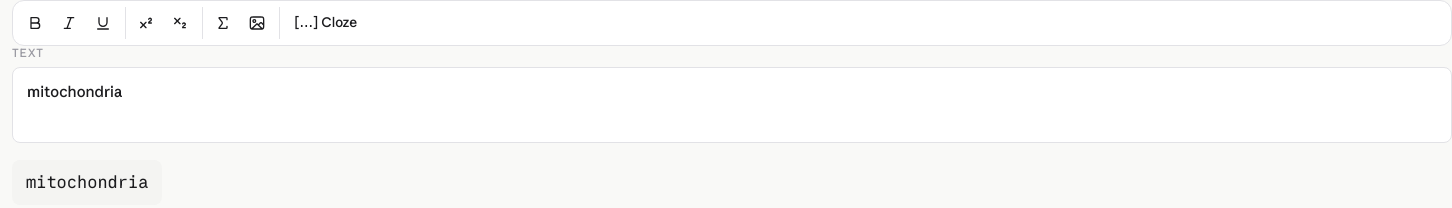
it: the cloze button only appears for cloze notes and uses the next number
Click the button "[…] Cloze".
click(326, 23)  # box [284, 7, 367, 39]
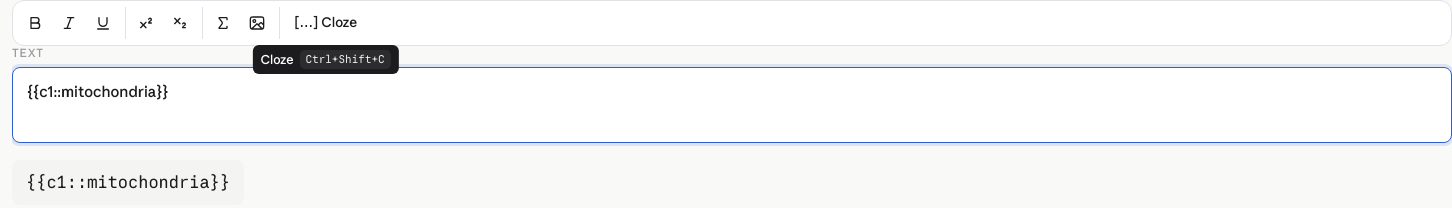
Expected: the text with test id "value" reads "{{c1::mitochondria}}", [26, 171, 230, 192]
